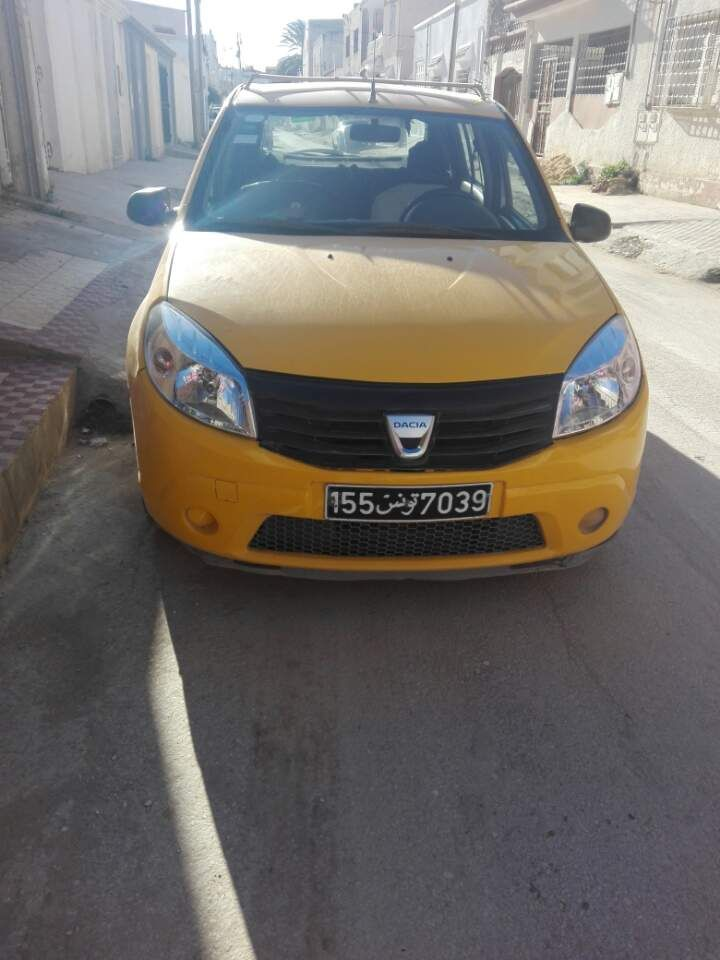LP: (324, 482, 494, 520)
